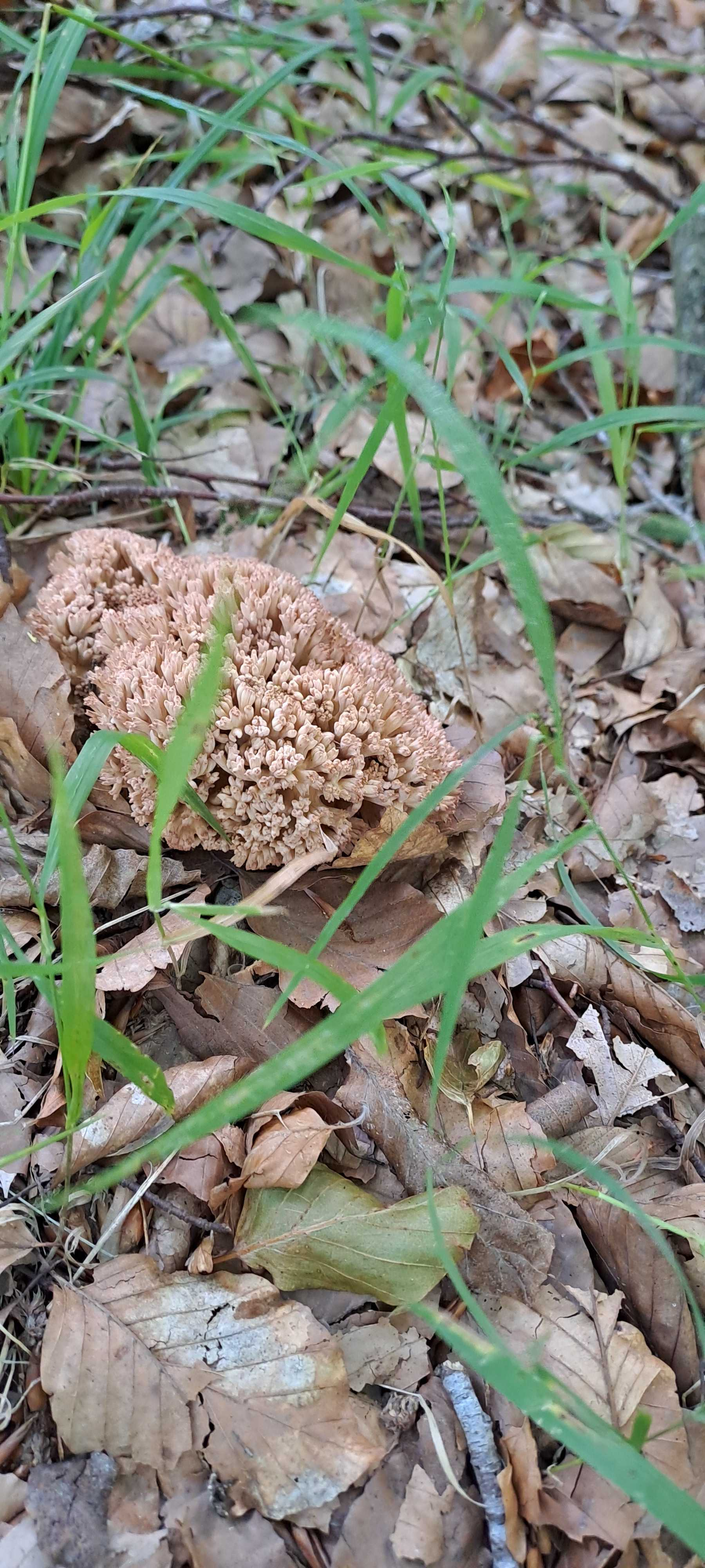coral: (29, 528, 459, 871), (101, 747, 157, 826), (164, 802, 224, 851)
